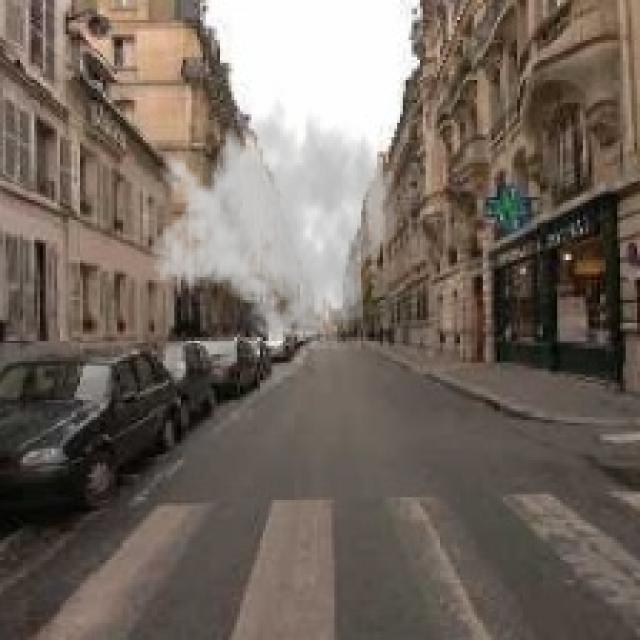smoke: (149, 83, 400, 351)
